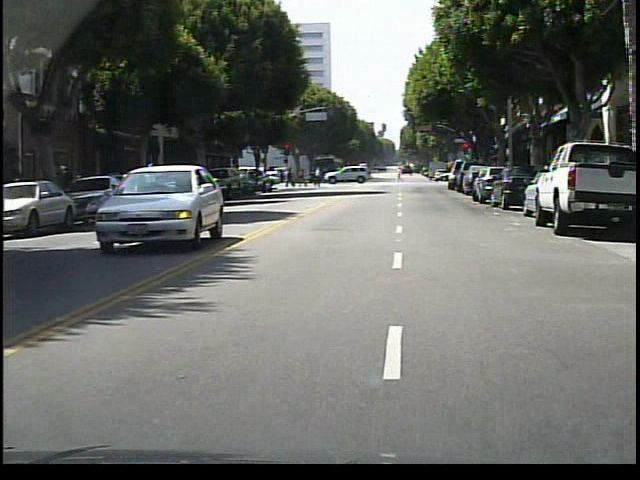person: (310, 164, 330, 193)
